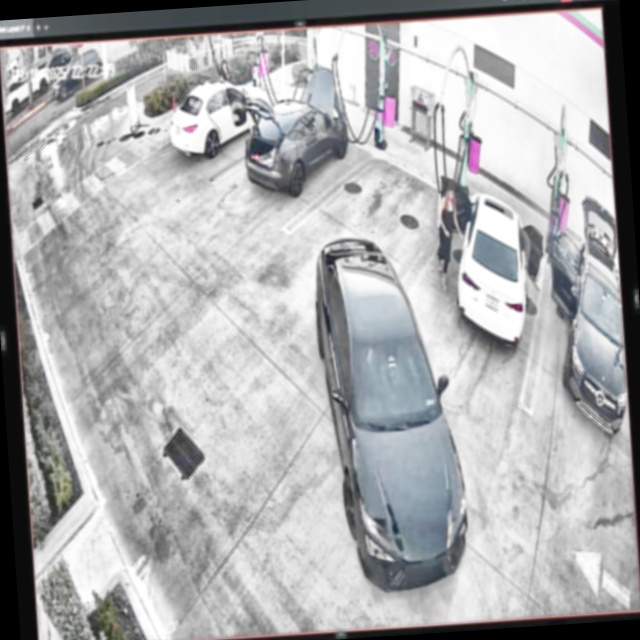Car: (307, 229, 471, 587), (433, 164, 559, 355), (238, 68, 352, 203), (171, 77, 275, 168)
